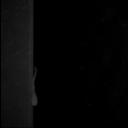fish: (30, 66, 38, 106)
